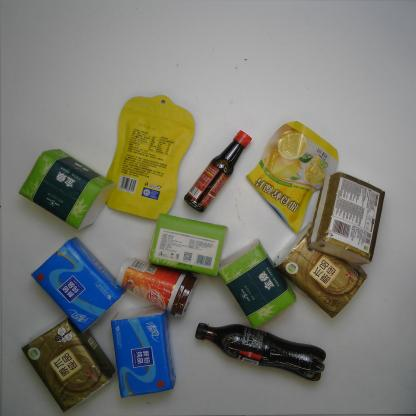Dried Fruit: (98, 94, 195, 220), (246, 120, 338, 234)
Drink: (195, 322, 326, 381)
Instant Drink: (116, 257, 198, 317)
Seasoner: (184, 130, 252, 213)
Tissue: (30, 236, 127, 334), (20, 316, 116, 414), (273, 222, 368, 318), (18, 148, 116, 230), (306, 170, 386, 266), (218, 238, 297, 329), (110, 305, 177, 399), (148, 213, 228, 277)
